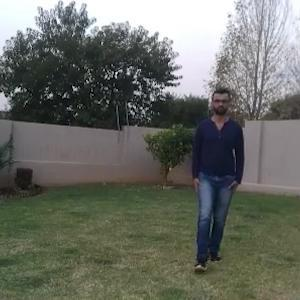follow: (187, 90, 241, 258)
